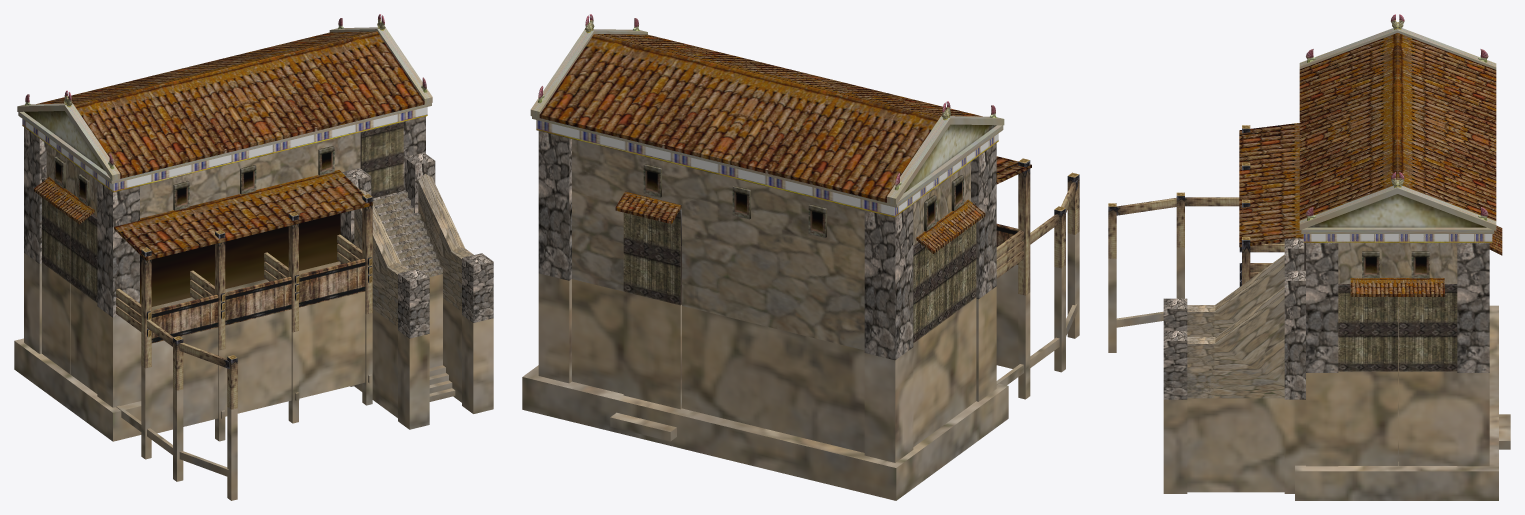
The model's file is stable.dae.
3 renders of one model, left to right at view 1: azimuth 30°, elevation 25°; view 2: azimuth 150°, elevation 25°; view 3: azimuth 270°, elevation 25°, orthographic. The views are drawn at different scales.
Parts seen in each view (by area): view 1: stable; view 2: stable; view 3: stable.
Boxes of the visible parts, left/top/right/bottom form: stable: left=14, top=14, right=493, bottom=500; stable: left=522, top=14, right=1079, bottom=500; stable: left=1108, top=14, right=1510, bottom=500.
Size of the model in its own units: 19.91 by 19.88 by 17.69.
